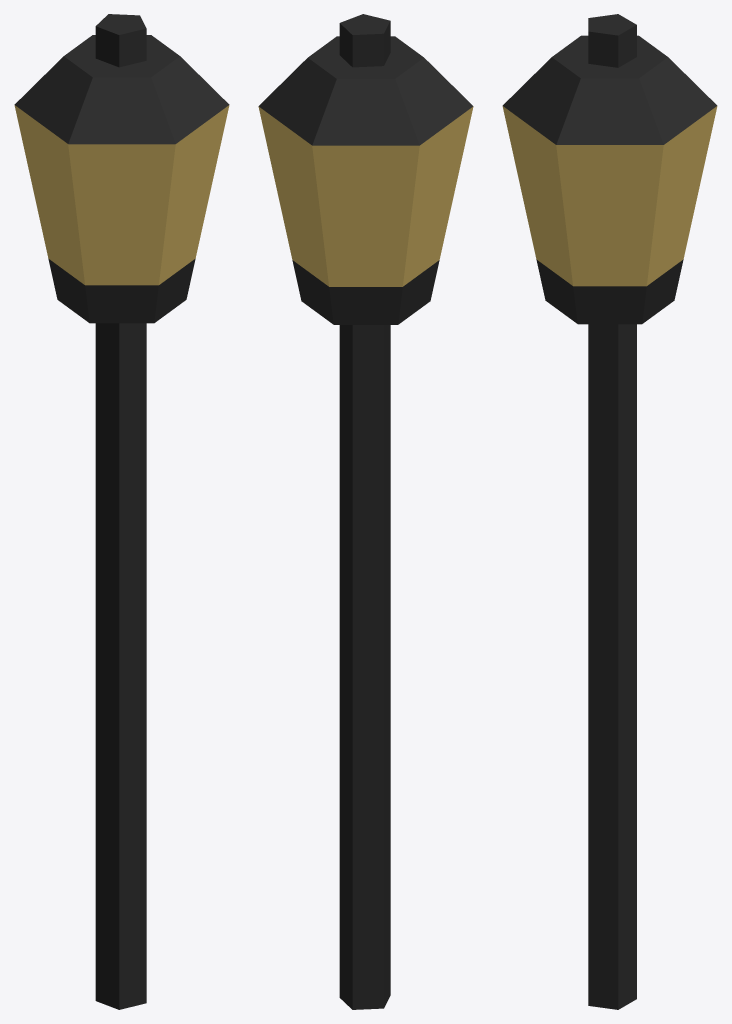
The model's file is Lamp.obj.
3 renders of one model, left to right at view 1: azimuth 30°, elevation 25°; view 2: azimuth 150°, elevation 25°; view 3: azimuth 270°, elevation 25°, orthographic.
Parts seen in each view (by area): view 1: Cylinder.001; view 2: Cylinder.001; view 3: Cylinder.001.
Part boxes in pixels (x1,y1,x2,y2): Cylinder.001: (14,14,229,1009); Cylinder.001: (258,14,473,1009); Cylinder.001: (502,14,717,1009).
Size of the model in its own units: 0.6928 by 4 by 0.8.
